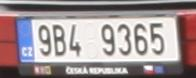3: (118, 24, 132, 55)
4: (70, 24, 81, 56)
5: (150, 23, 164, 54)
6: (134, 23, 147, 55)
9: (101, 24, 115, 55), (38, 24, 51, 55)
B: (53, 24, 65, 56)
